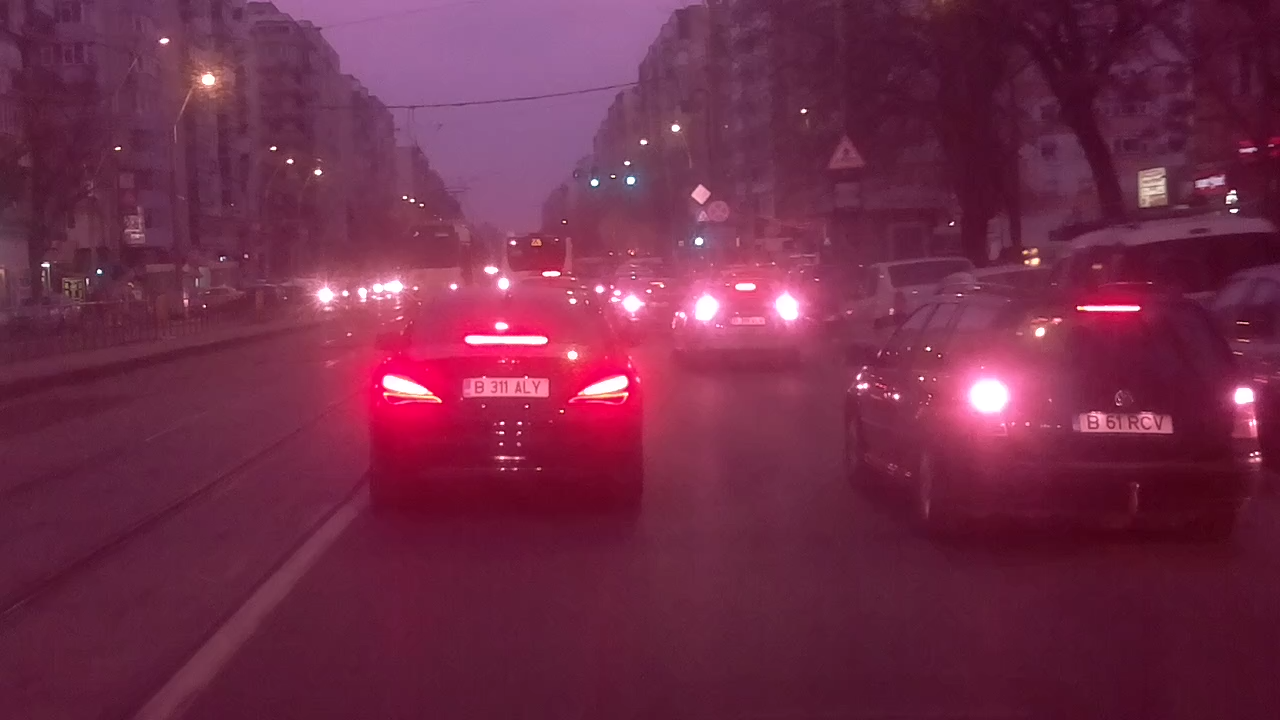license-plate: (1069, 408, 1177, 436), (457, 373, 551, 401)
